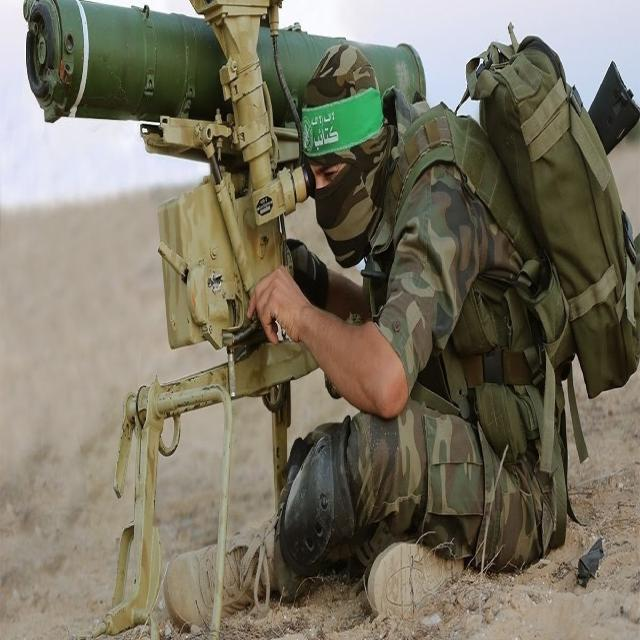bazooka: (16, 1, 437, 148)
